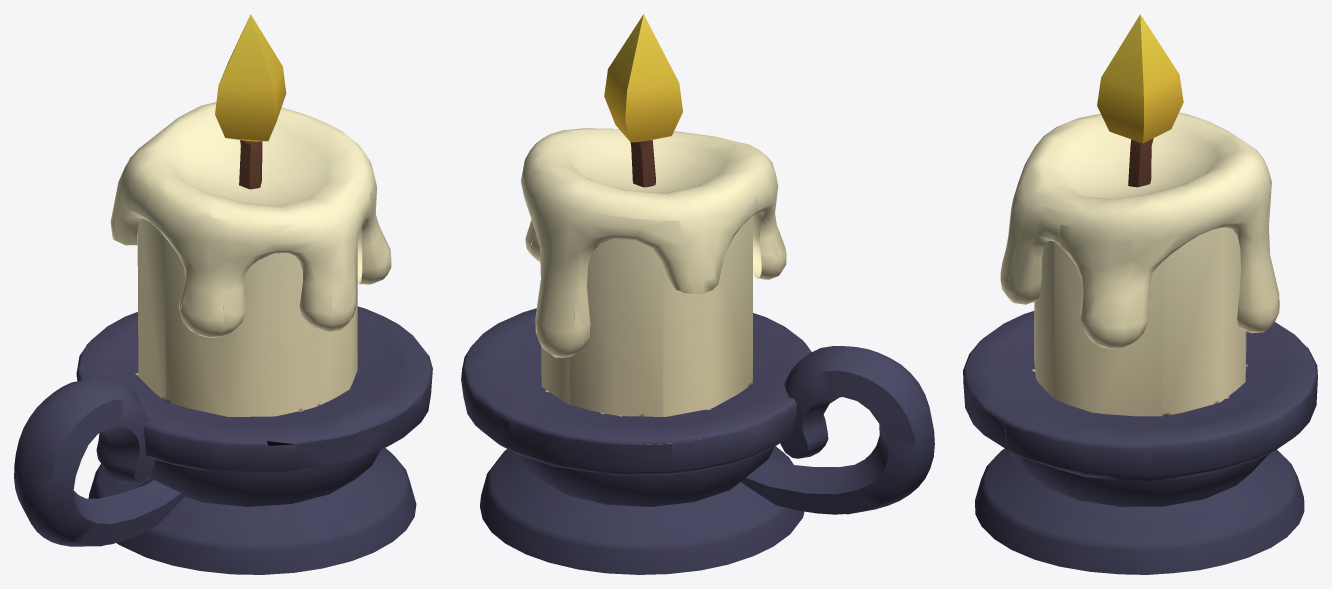
Rendered from kit-candle.glb.
3 renders of one model, left to right at view 1: azimuth 30°, elevation 25°; view 2: azimuth 150°, elevation 25°; view 3: azimuth 270°, elevation 25°, orthographic.
Parts seen in each view (by area): view 1: WBA_Decoration_Candle_01_WBA_MAT_Halloween_Atlas_0.001; view 2: WBA_Decoration_Candle_01_WBA_MAT_Halloween_Atlas_0.001; view 3: WBA_Decoration_Candle_01_WBA_MAT_Halloween_Atlas_0.001.
Part boxes in pixels (left/top/right/bottom): WBA_Decoration_Candle_01_WBA_MAT_Halloween_Atlas_0.001: left=14, top=14, right=432, bottom=574; WBA_Decoration_Candle_01_WBA_MAT_Halloween_Atlas_0.001: left=461, top=14, right=934, bottom=574; WBA_Decoration_Candle_01_WBA_MAT_Halloween_Atlas_0.001: left=963, top=14, right=1317, bottom=574.
Bounding box in the file's own units: 0.2089 × 0.2363 × 0.1539.
1 material, 1 textured.
